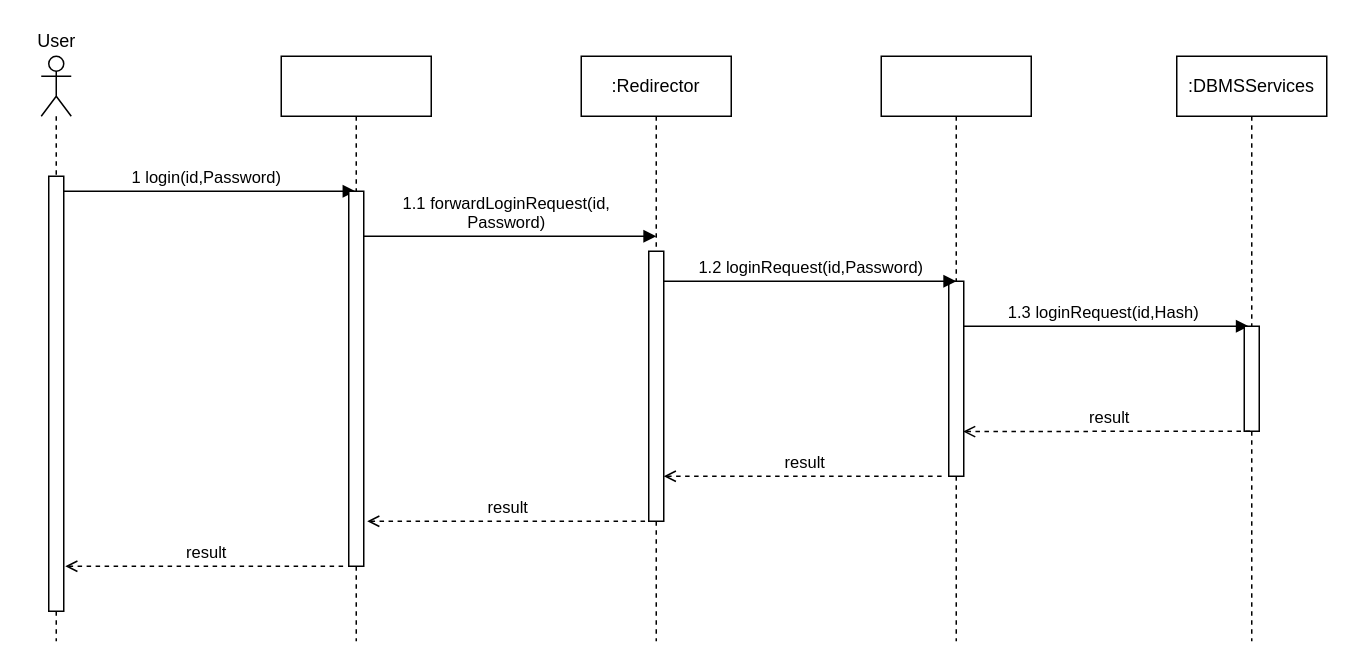
Image size: 1353x668. Some labels were removed from this diagram. Here are the shapes that lost their labels. From the top down, the box of each, then its label:
(280, 55, 431, 641): :SmartApp
(880, 55, 1031, 641): :LoginManager
